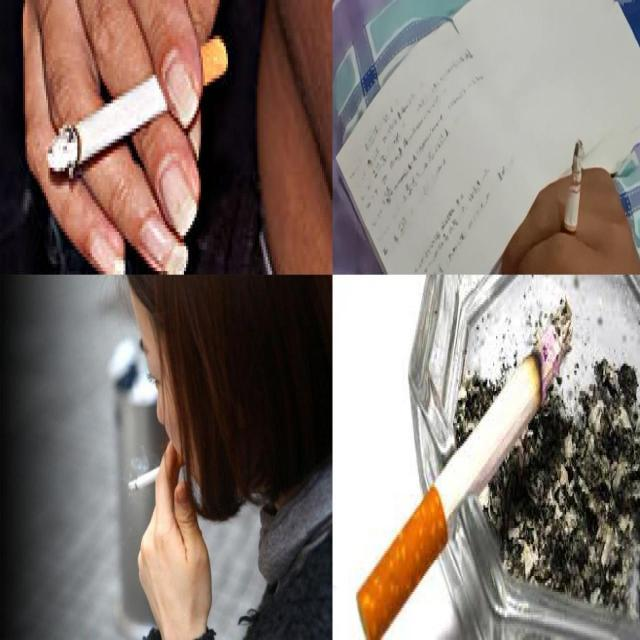smoke: (354, 295, 574, 639), (46, 35, 230, 174), (558, 136, 586, 262), (128, 454, 188, 494)
